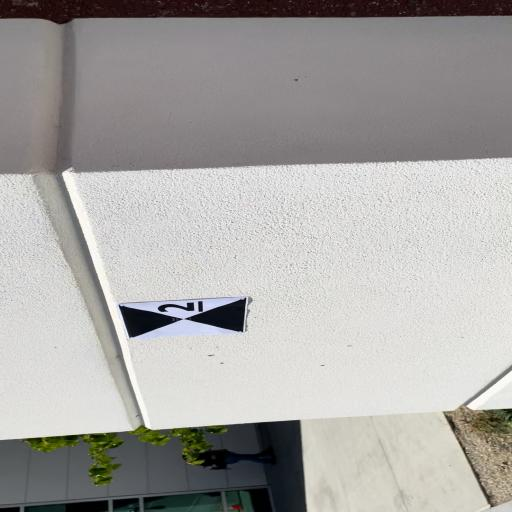target2: (120, 297, 249, 339)
